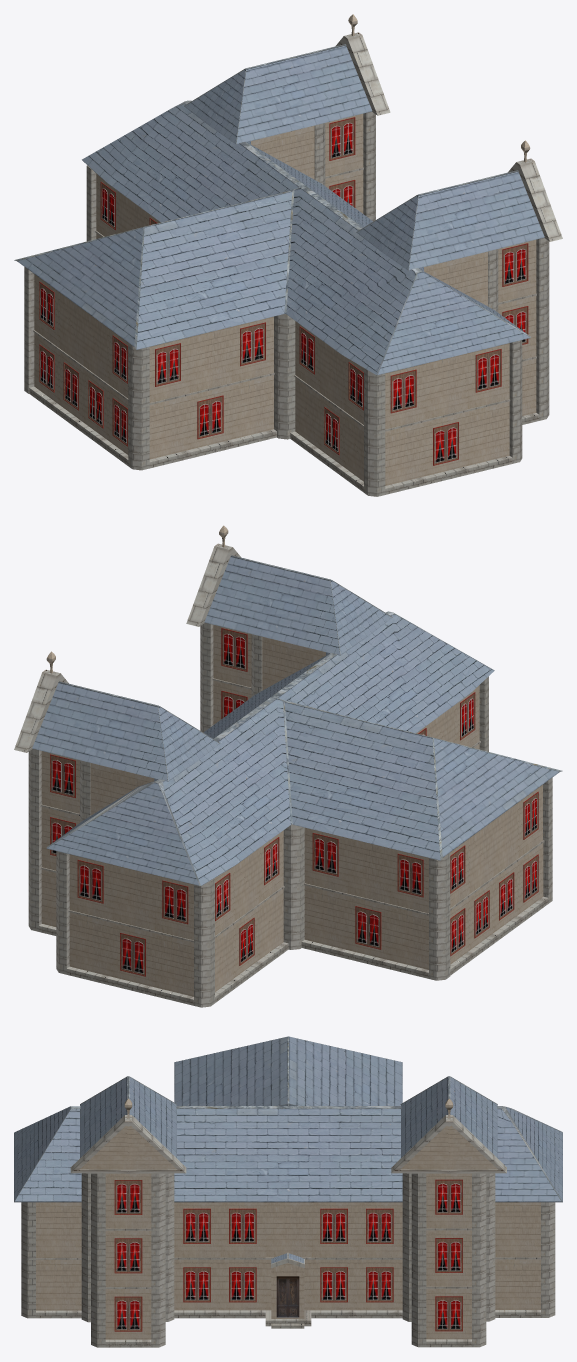
Rendered from Manor.fbx.
3 views of the same model, one above another, from view 1: azimuth 30°, elevation 25°; view 2: azimuth 150°, elevation 25°; view 3: azimuth 270°, elevation 25° (orthographic). The views are drawn at different scales.
Parts seen in each view (by area): view 1: Cube.006; view 2: Cube.006; view 3: Cube.006.
Boxes of the visible parts, box(x1,y1,x2,y2) form: Cube.006: box(14, 14, 562, 496); Cube.006: box(14, 525, 562, 1007); Cube.006: box(14, 1036, 562, 1347).
Bounding box in the file's own units: 2345 × 1594 × 3223.
Materials: 6 (6 with a texture image).
